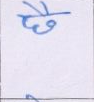ai_matra: (22, 1, 53, 13)
